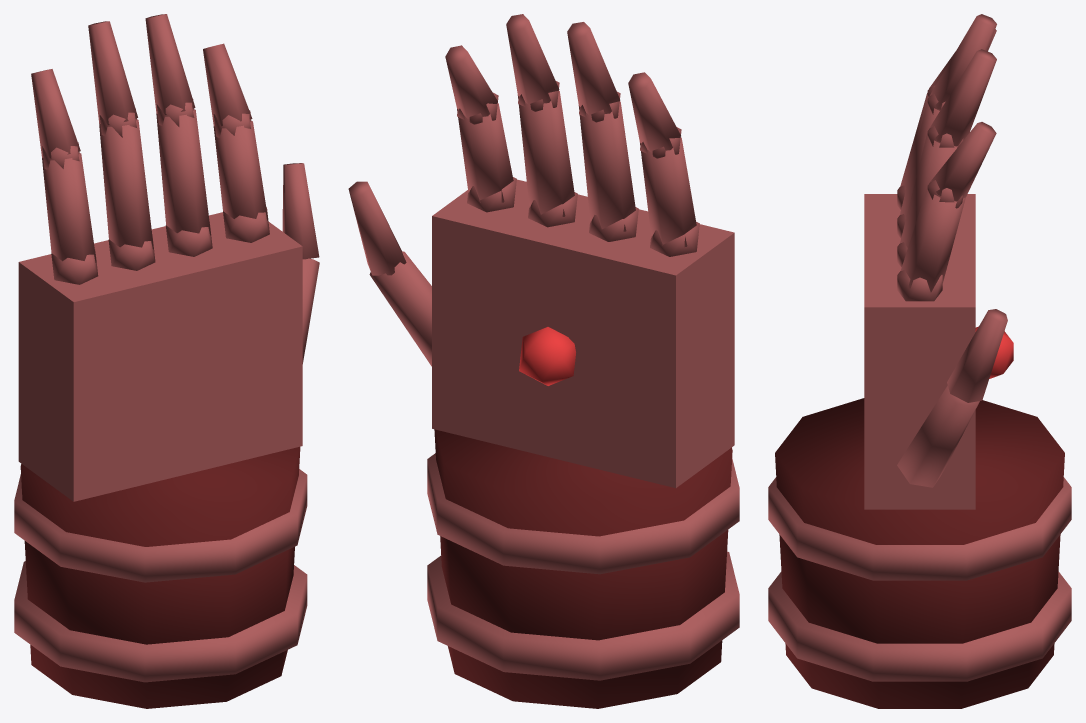
Rendered from flesh_knuckles.glb.
3 renders of one model, left to right at view 1: azimuth 30°, elevation 25°; view 2: azimuth 150°, elevation 25°; view 3: azimuth 270°, elevation 25°, orthographic. The views are drawn at different scales.
Parts seen in each view (by area): view 1: flesh_knuckles_v0; view 2: flesh_knuckles_v0; view 3: flesh_knuckles_v0.
Part boxes in pixels (bbox=[...]): flesh_knuckles_v0: bbox=[14, 14, 319, 708]; flesh_knuckles_v0: bbox=[348, 14, 739, 708]; flesh_knuckles_v0: bbox=[768, 14, 1071, 708].
Size of the model in its own units: 0.1595 by 0.309 by 0.136.
